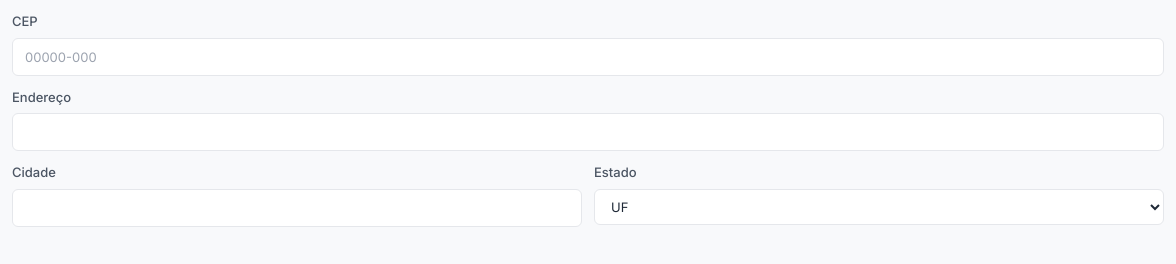
Test case: AddressFields › keeps fields manual and toasts when the CEP is not found (404)
In the field labelled "CEP": [588, 56] box [12,38,1164,76], type "99999999"
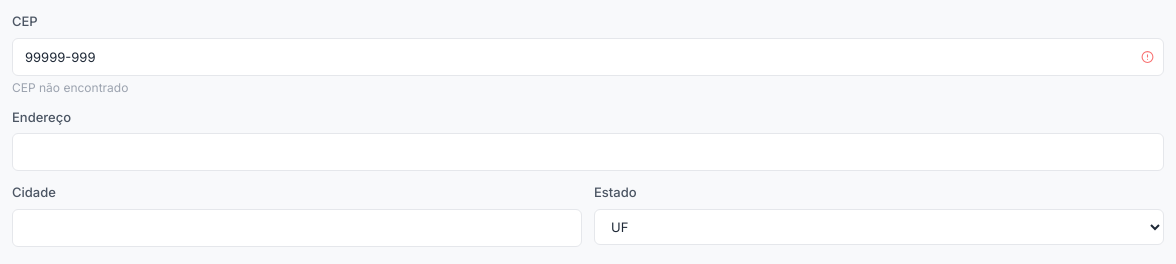
Expected: the field labelled "Endereço" is empty, [12,133,1164,171]
Expected: the message reads "CEP não encontrado", [12,80,128,94]
